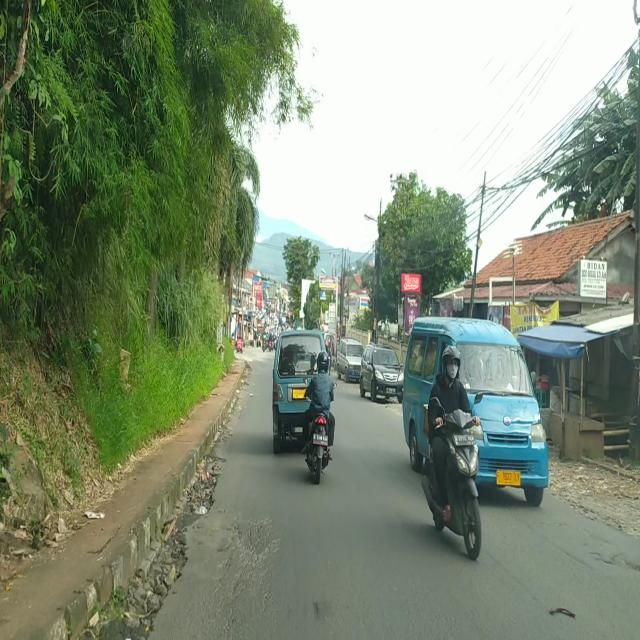Drain Hole: (209, 508, 278, 622)
